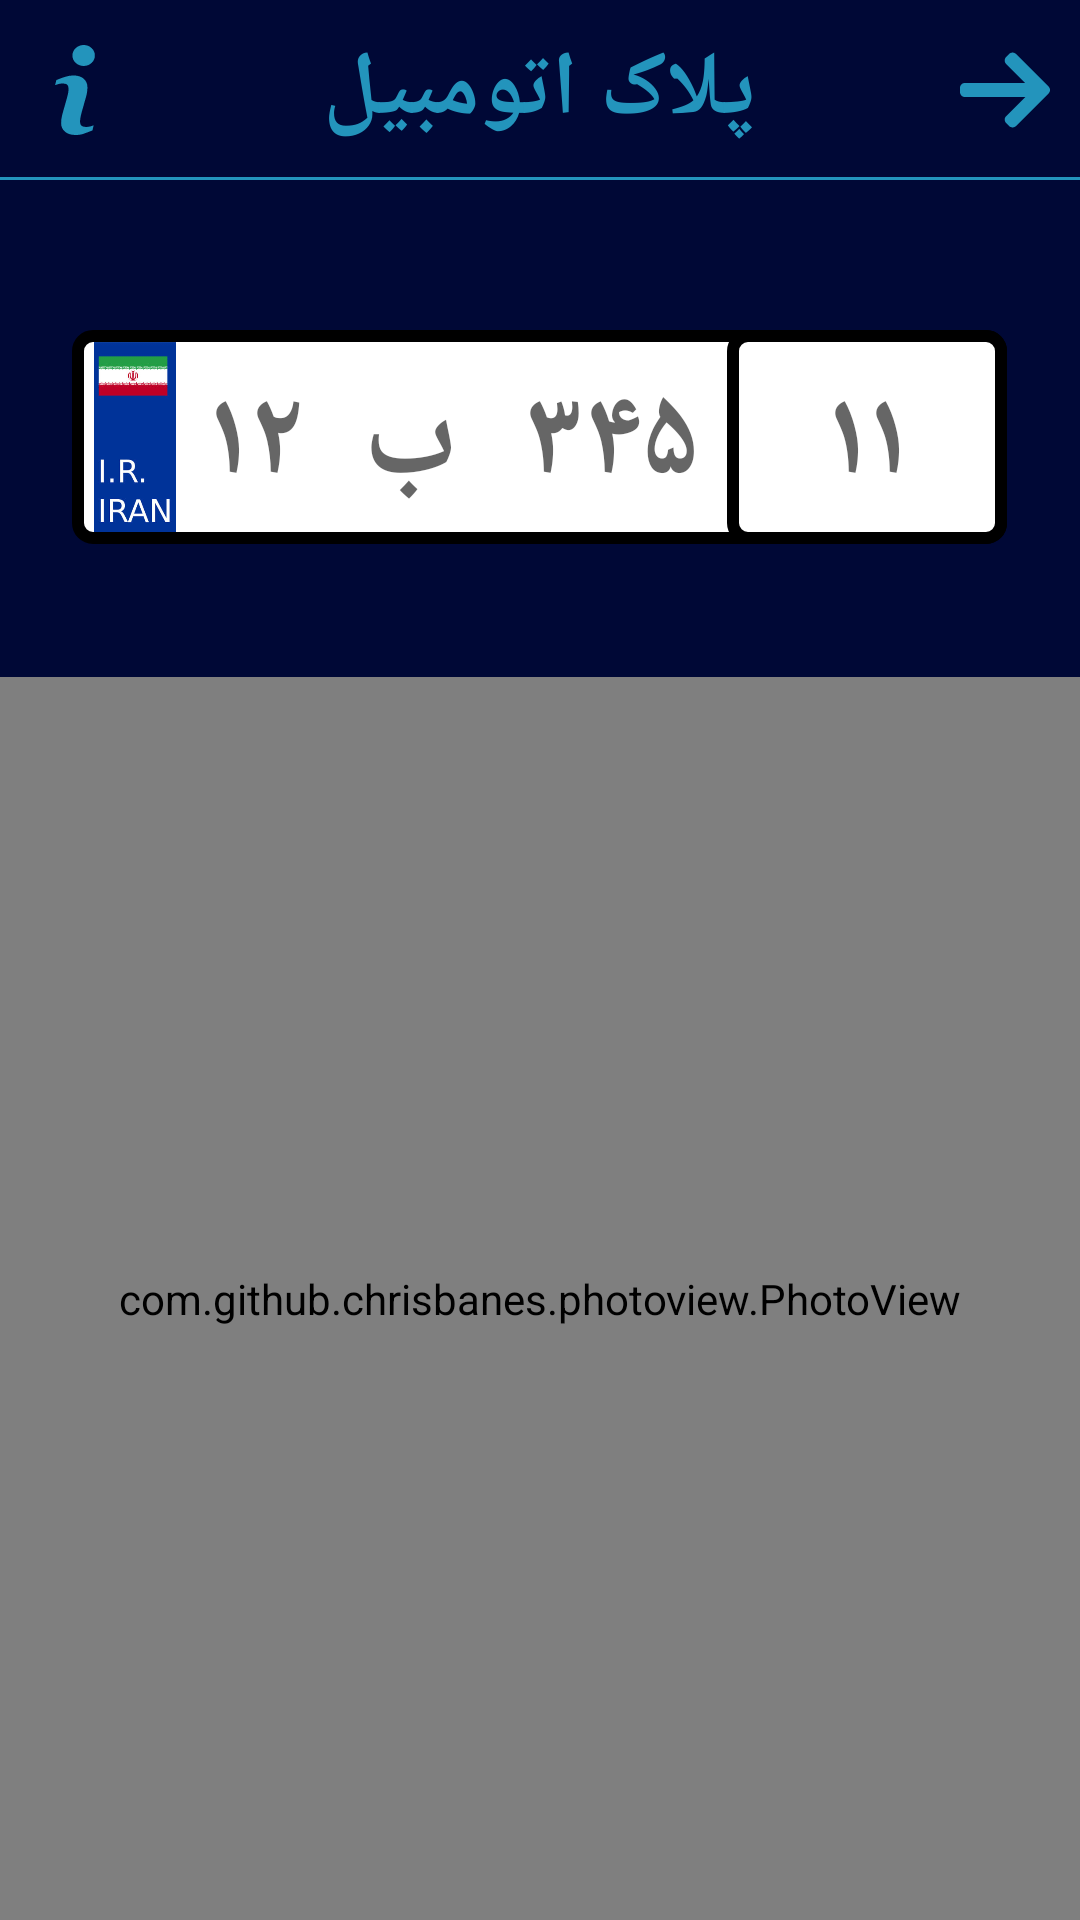

Named icons in this screenshot (1080x1920) and their bounding boxes, (x1, y1, x2, y2):
back: (960, 52, 1050, 128)
info: (55, 45, 95, 135)
